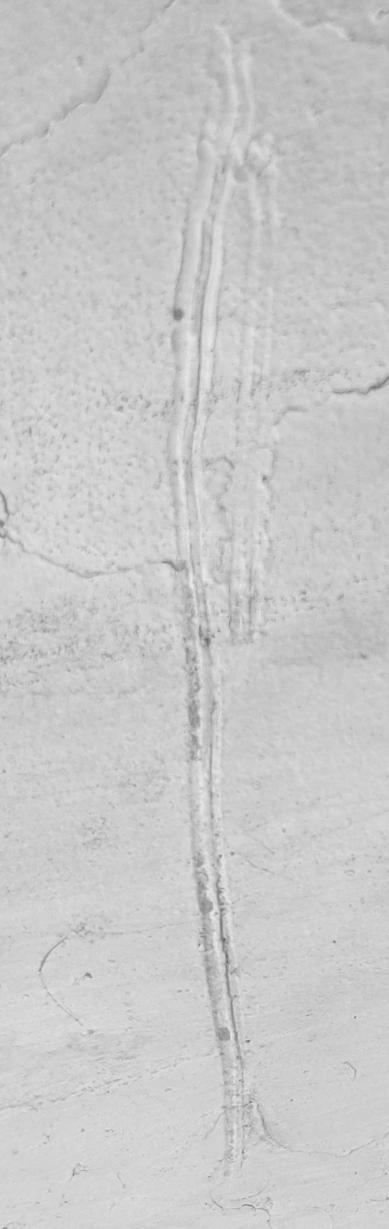scratch: (0, 1, 389, 1229)
